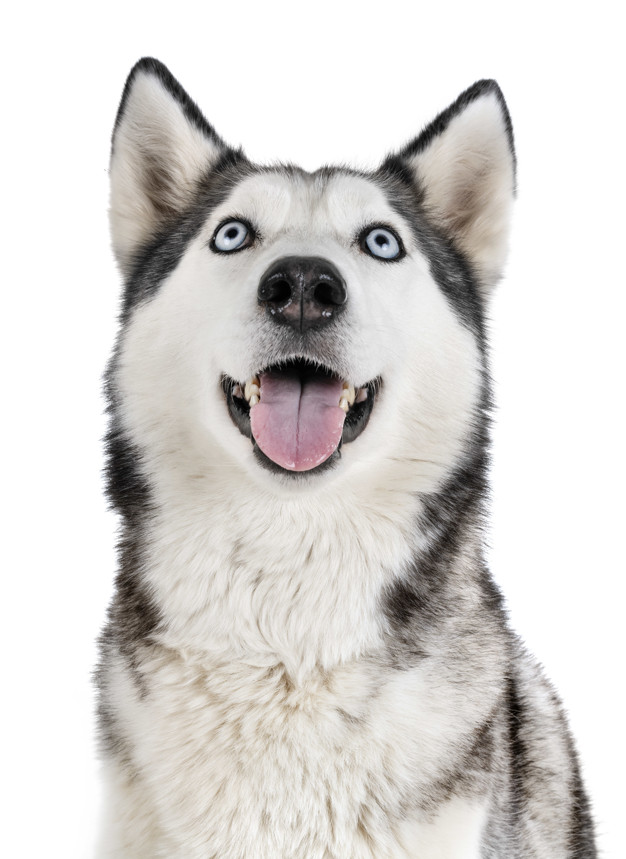husky: (75, 25, 598, 856)
